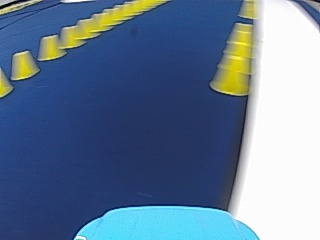cone: (209, 26, 253, 92), (10, 50, 39, 80), (37, 34, 62, 60), (59, 25, 82, 48), (1, 68, 13, 97), (238, 1, 253, 18)
